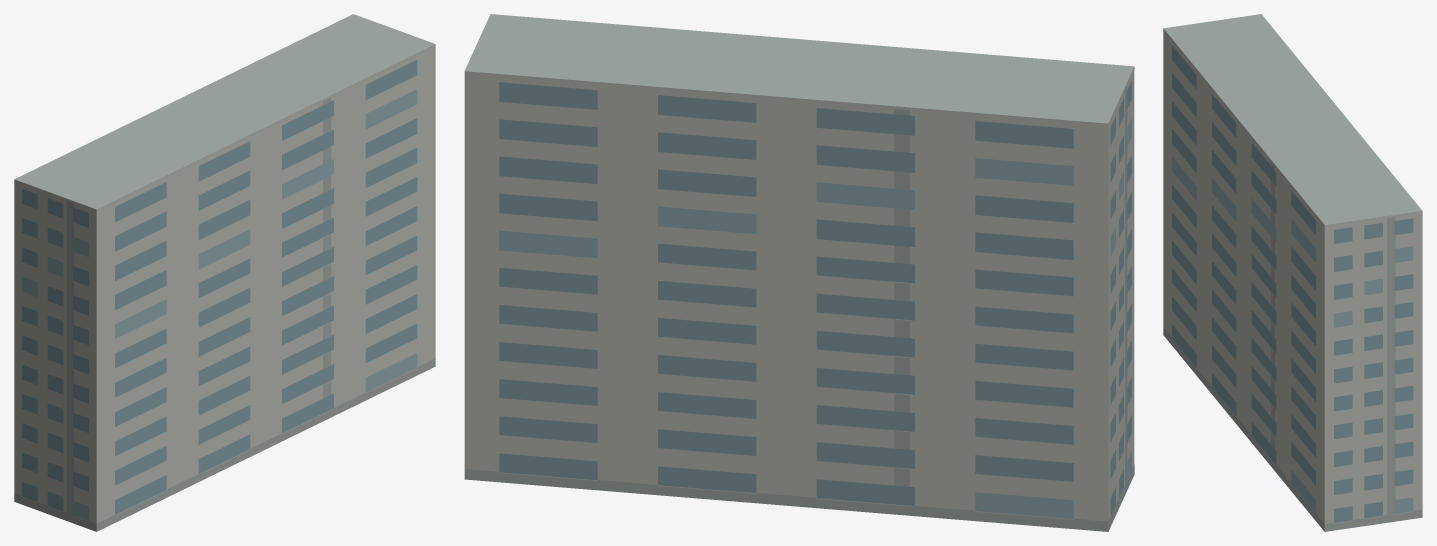
The model's file is residential-814dfb69-a131-4e93-9a50-36086fa2f121.glb.
3 views of the same model, side by side, from view 1: azimuth 30°, elevation 25°; view 2: azimuth 150°, elevation 25°; view 3: azimuth 270°, elevation 25° (orthographic). The views are drawn at different scales.
Visible parts, largest first — view 1: residential-814dfb69-a131-4e93-9a50-36086fa2f121.tmp; view 2: residential-814dfb69-a131-4e93-9a50-36086fa2f121.tmp; view 3: residential-814dfb69-a131-4e93-9a50-36086fa2f121.tmp.
Boxes of the visible parts, x1,y1,x2,y2 form: residential-814dfb69-a131-4e93-9a50-36086fa2f121.tmp: (14, 14, 435, 531); residential-814dfb69-a131-4e93-9a50-36086fa2f121.tmp: (464, 14, 1134, 531); residential-814dfb69-a131-4e93-9a50-36086fa2f121.tmp: (1163, 14, 1422, 531).
Size of the model in its own units: 50.17 by 34 by 26.03.
